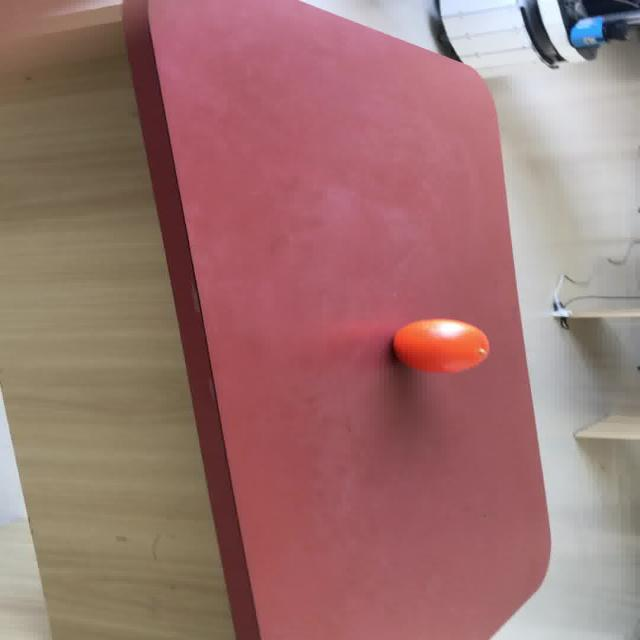orange: (390, 318, 489, 373)
